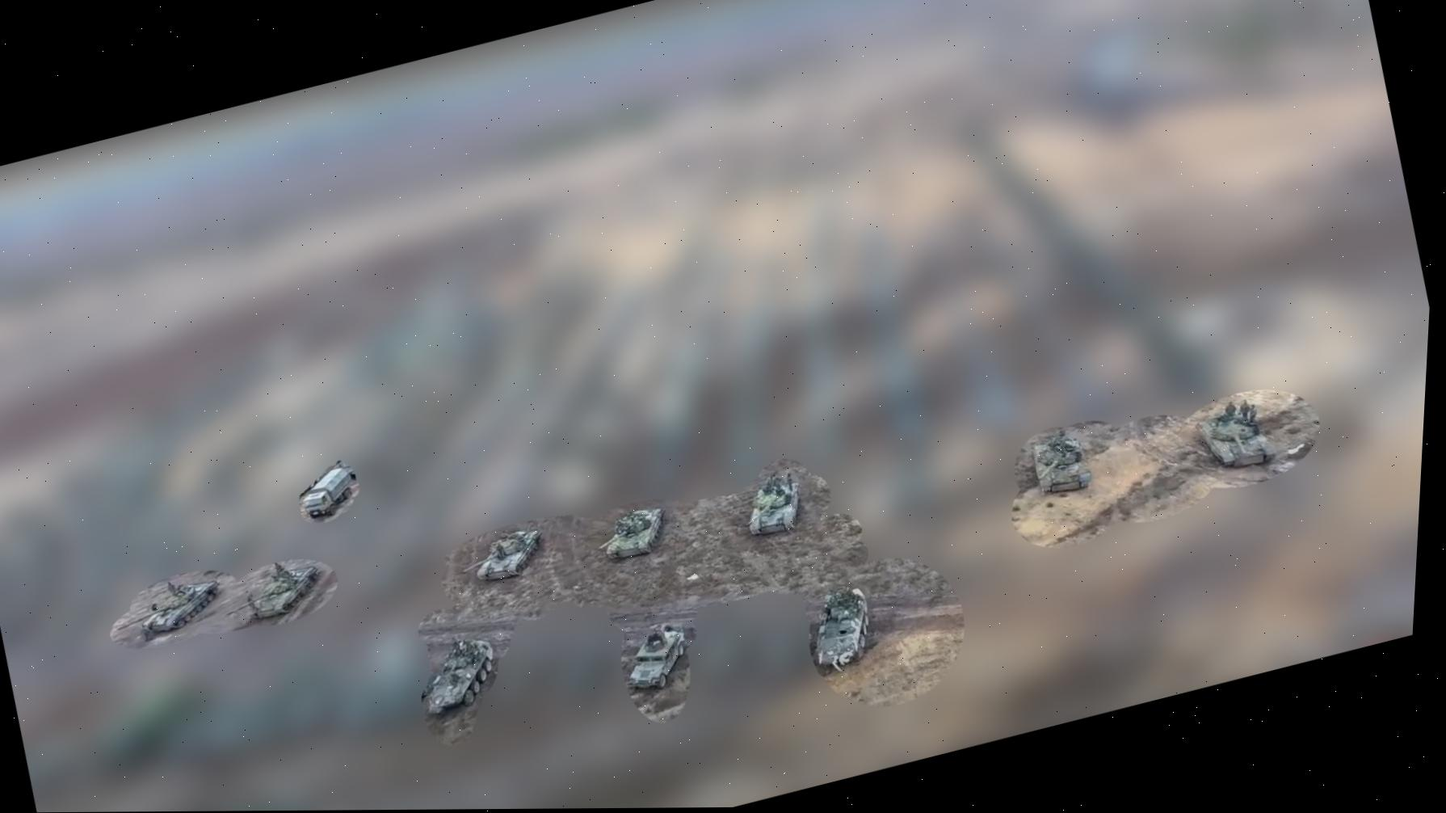armored_car: (411, 633, 507, 718), (796, 582, 882, 672), (612, 620, 699, 696)
tank: (107, 573, 230, 644), (1189, 397, 1286, 480), (216, 560, 331, 630), (453, 524, 553, 591), (733, 473, 812, 543), (589, 503, 674, 566), (1027, 427, 1100, 499)
truck: (293, 463, 363, 524)
